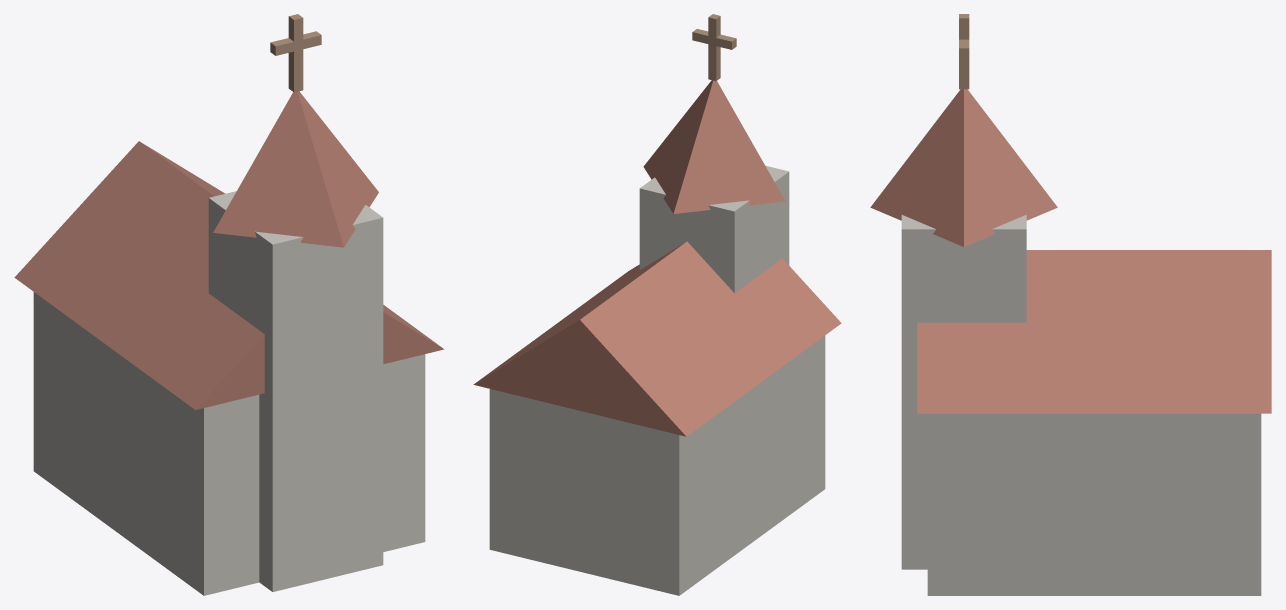
The model's file is church.glb.
The picture shows the model from 3 angles, left to right: view 1: azimuth 30°, elevation 25°; view 2: azimuth 150°, elevation 25°; view 3: azimuth 270°, elevation 25°; orthographic projection. The views are drawn at different scales.
Parts seen in each view (by area): view 1: church_stone, church_roof, church_wood; view 2: church_stone, church_roof, church_wood; view 3: church_stone, church_roof, church_wood.
Boxes of the visible parts, x1,y1,x2,y2 form: church_stone: (33,191,425,595); church_roof: (14,91,444,409); church_wood: (270,14,321,92); church_stone: (489,165,825,595); church_roof: (473,80,841,436); church_wood: (692,14,736,80); church_stone: (901,214,1261,595); church_roof: (870,89,1271,413); church_wood: (959,14,969,89).
Bounding box in the file's own units: 1.8 × 3.72 × 2.57.
